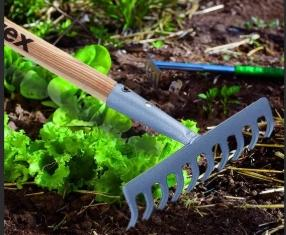RATEAU: (3, 4, 277, 230)
